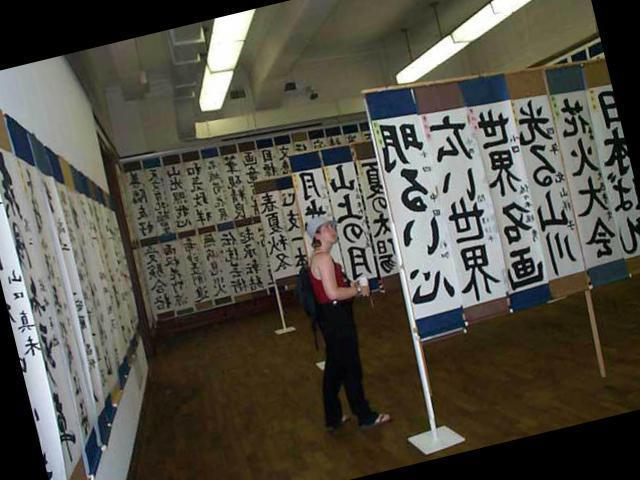Otro Obstaculo: (364, 54, 640, 349), (0, 112, 186, 480), (322, 142, 396, 292)
